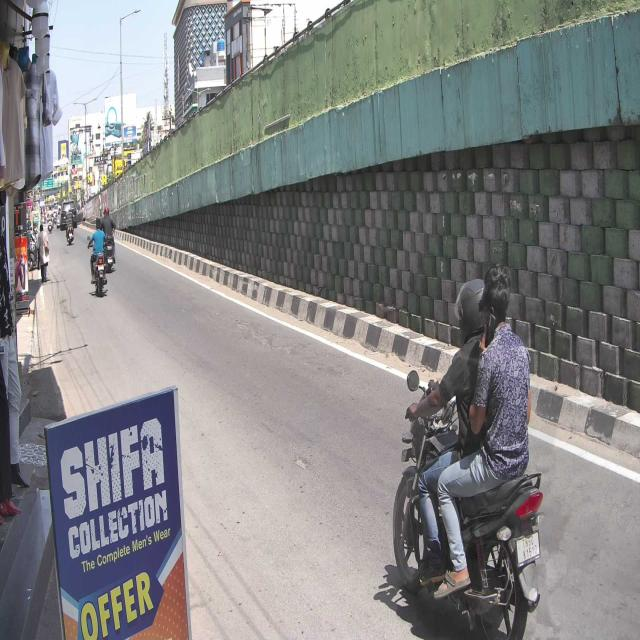double_rider: (392, 262, 544, 640)
